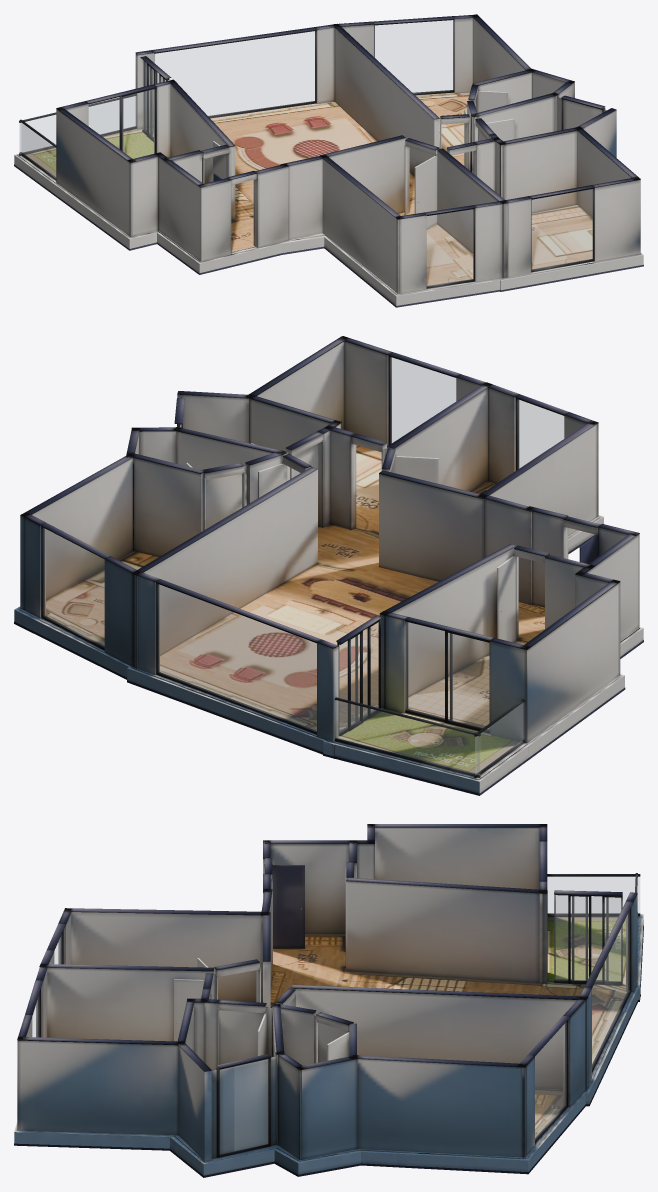
3 views of the same model, one above another, from view 1: azimuth 30°, elevation 25°; view 2: azimuth 150°, elevation 25°; view 3: azimuth 270°, elevation 25° (orthographic). The views are drawn at different scales.
Visible parts, largest first — view 1: plan, glass2_m, glass3_m, glass6_m, glass5_m, glass0_m, railg0_m, railg1_m, glass1_m; view 2: plan, glass2_m, glass0_m, railg0_m, glass3_m, glass6_m, glass1_m, glass5_m, railg1_m; view 3: plan, glass1_m, glass4_m, glass2_m, glass3_m, railg1_m.
Part boxes in pixels (left/top/right/bottom): plan: left=14, top=14, right=643, bottom=307; glass2_m: left=154, top=31, right=315, bottom=115; glass3_m: left=375, top=20, right=452, bottom=92; glass6_m: left=532, top=189, right=592, bottom=269; glass5_m: left=427, top=209, right=473, bottom=286; glass0_m: left=89, top=89, right=154, bottom=158; railg0_m: left=19, top=96, right=135, bottom=153; railg1_m: left=21, top=123, right=55, bottom=177; glass1_m: left=143, top=60, right=165, bottom=137; plan: left=14, top=336, right=643, bottom=795; glass2_m: left=158, top=584, right=316, bottom=731; glass0_m: left=406, top=622, right=489, bottom=729; railg0_m: left=336, top=700, right=479, bottom=774; glass3_m: left=43, top=528, right=104, bottom=646; glass6_m: left=391, top=357, right=455, bottom=443; glass1_m: left=339, top=622, right=378, bottom=733; glass5_m: left=518, top=399, right=563, bottom=468; railg1_m: left=475, top=703, right=523, bottom=775; plan: left=14, top=824, right=643, bottom=1177; glass1_m: left=554, top=895, right=620, bottom=981; glass4_m: left=220, top=1059, right=268, bottom=1154; glass2_m: left=592, top=911, right=629, bottom=1066; glass3_m: left=535, top=1022, right=566, bottom=1139; railg1_m: left=547, top=877, right=639, bottom=913.
Bounding box in the file's own units: 13.45 × 2.62 × 14.29.
2 materials, 1 textured.
